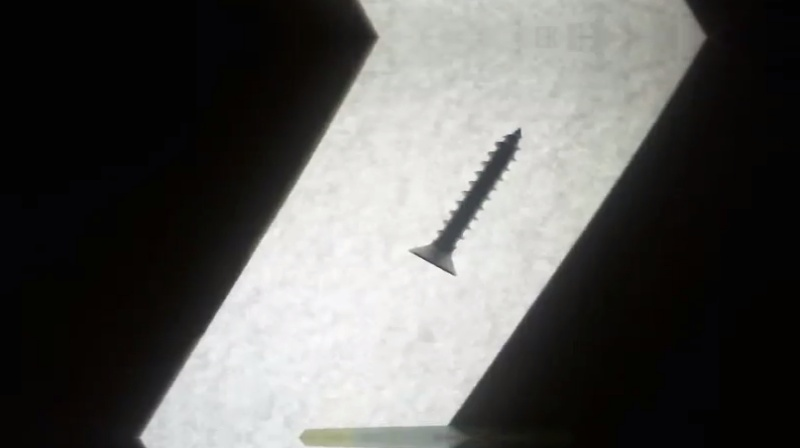S001: (404, 126, 530, 279)
